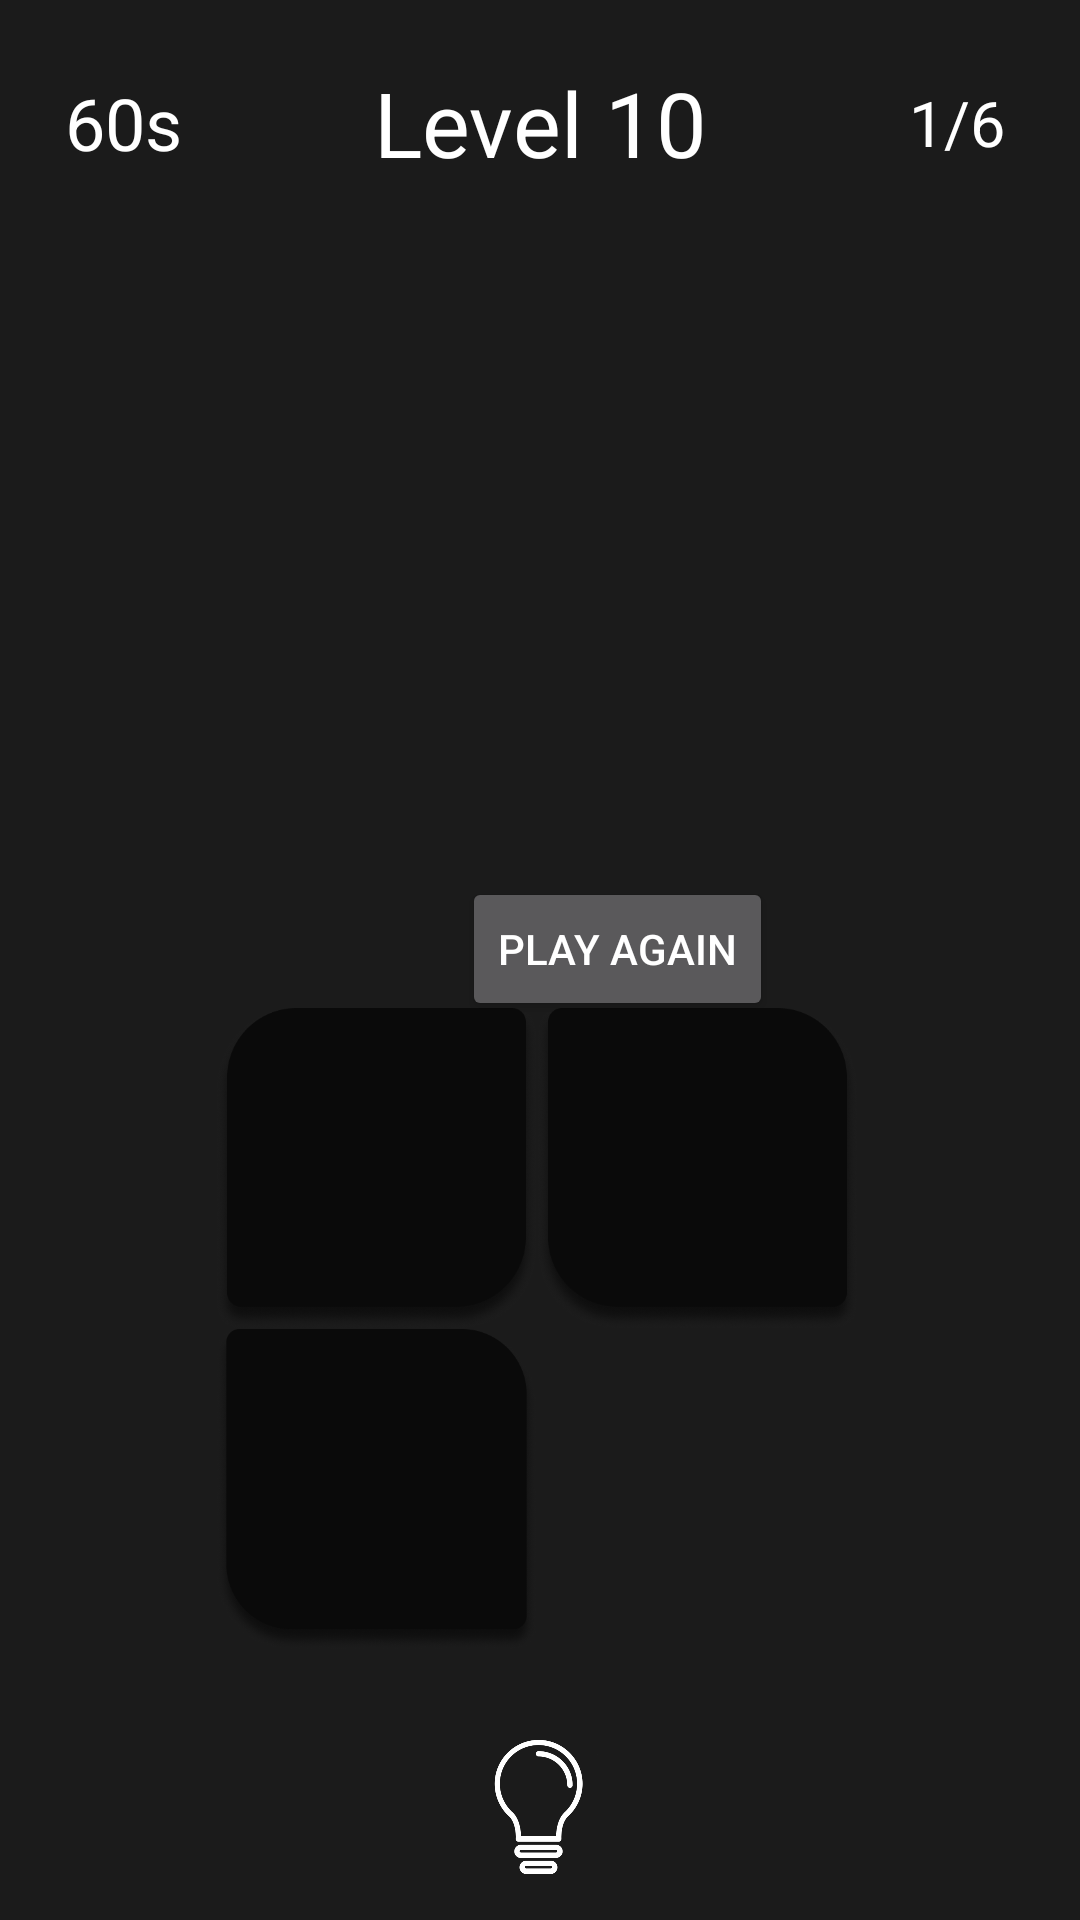

Screen size 1080×1920. Icon name, then its box in pixels as (x1, y1, x2, y2):
bulb: (494, 1740, 583, 1874)
